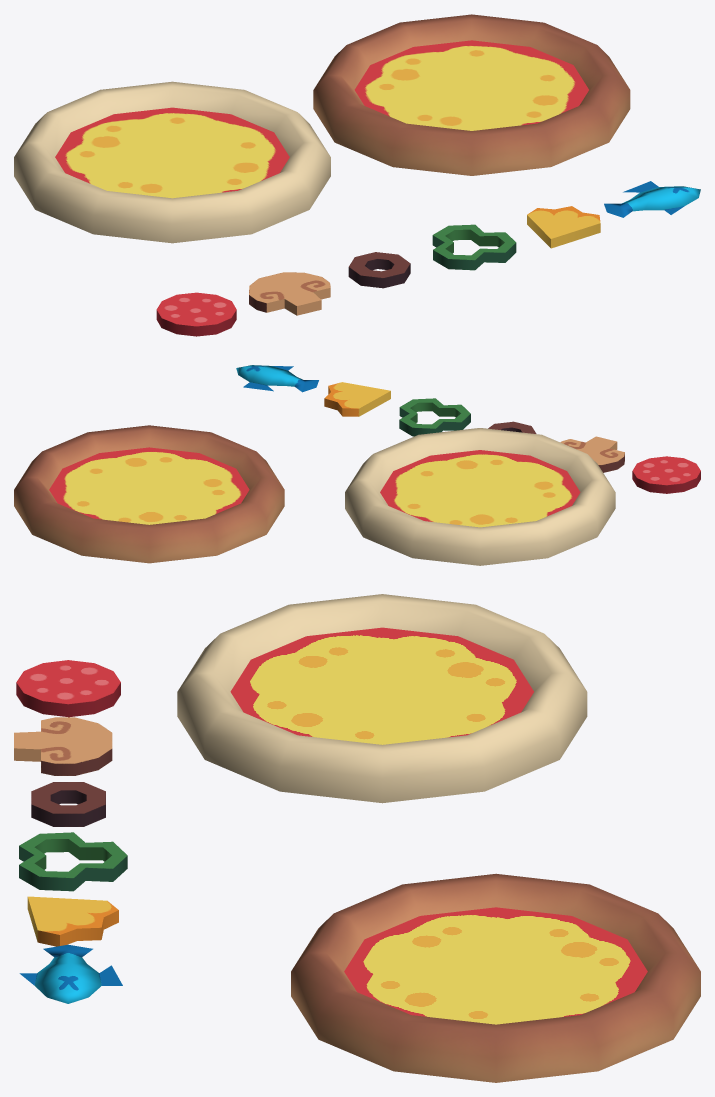
File: Pizza_Ingridients.fbx
3 views of the same model, one above another, from view 1: azimuth 30°, elevation 25°; view 2: azimuth 150°, elevation 25°; view 3: azimuth 270°, elevation 25° (orthographic). The views are drawn at different scales.
Visible parts, largest first — view 1: Pizza Assada, Pizza Crua, Pepperoni, Cogumelo, Pimento, Ananás, Peixe, Azeitona; view 2: Pizza Crua, Pizza Assada, Pepperoni, Pimento, Ananás, Peixe, Cogumelo, Azeitona; view 3: Pizza Crua, Pizza Assada, Pepperoni, Cogumelo, Pimento, Ananás, Peixe, Azeitona.
Boxes of the visible parts, x1,y1,x2,y2 form: Pizza Assada: (313,14,630,175); Pizza Crua: (14,81,330,243); Pepperoni: (156,292,236,336); Cogumelo: (249,272,330,315); Pimento: (432,224,516,270); Ananás: (527,206,600,248); Peixe: (604,181,700,217); Azeitona: (348,252,410,288); Pizza Crua: (345,428,615,565); Pizza Assada: (14,425,284,563); Pepperoni: (632,456,700,493); Pimento: (399,398,470,436); Ananás: (324,382,390,416); Peixe: (236,365,318,392); Cogumelo: (560,436,624,472); Azeitona: (488,421,536,433); Pizza Crua: (177,594,587,803); Pizza Assada: (291,873,700,1082); Pepperoni: (16,660,120,717); Cogumelo: (14,717,112,775); Pimento: (19,832,127,891); Ananás: (27,896,118,946); Peixe: (19,944,122,1003); Azeitona: (31,782,105,826).
Bounding box in the file's own units: 524 × 66.57 × 390.
